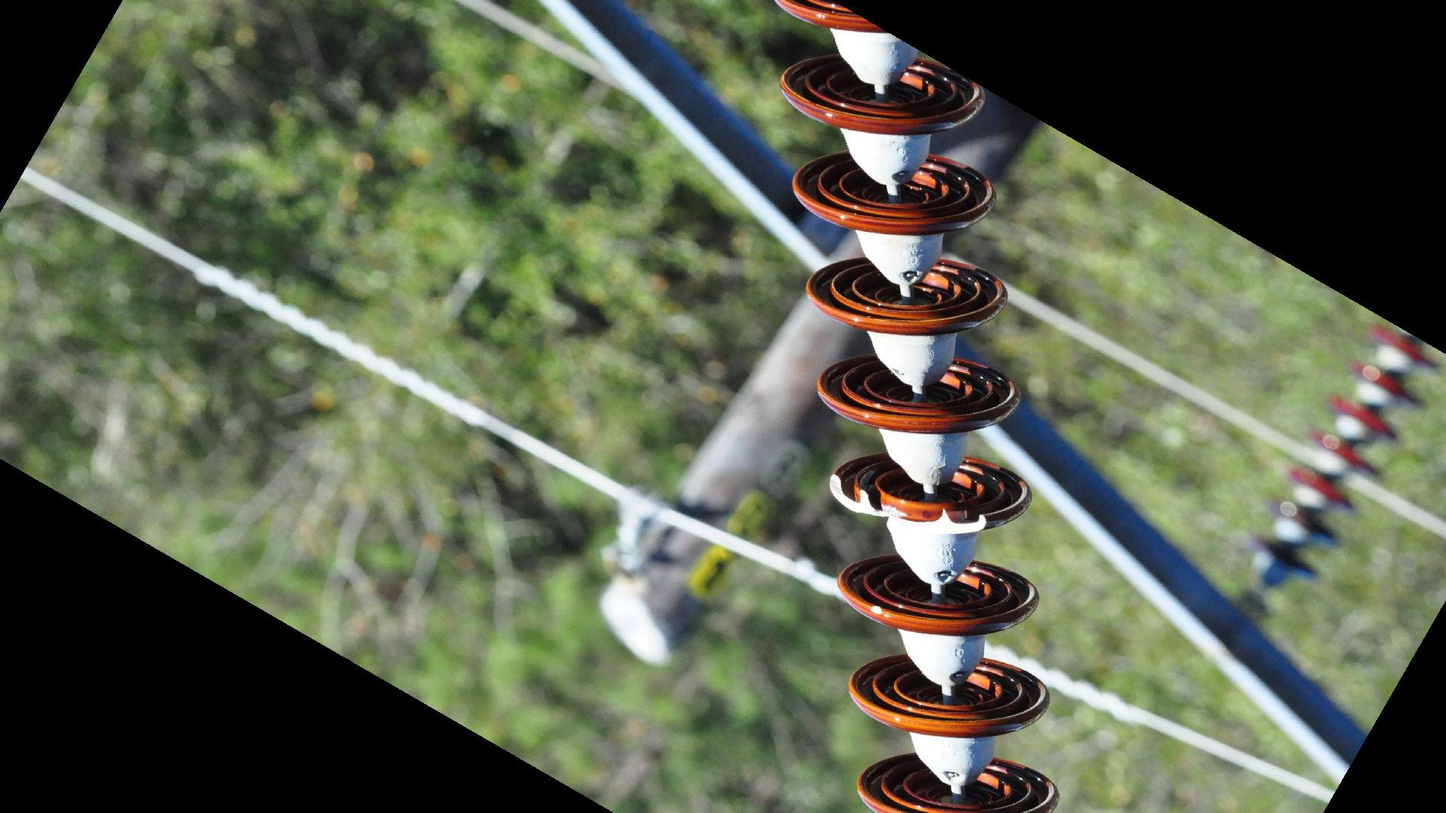insulator: (772, 1, 1064, 813), (1239, 321, 1433, 591)
insulator_breakage: (817, 467, 1000, 541)
